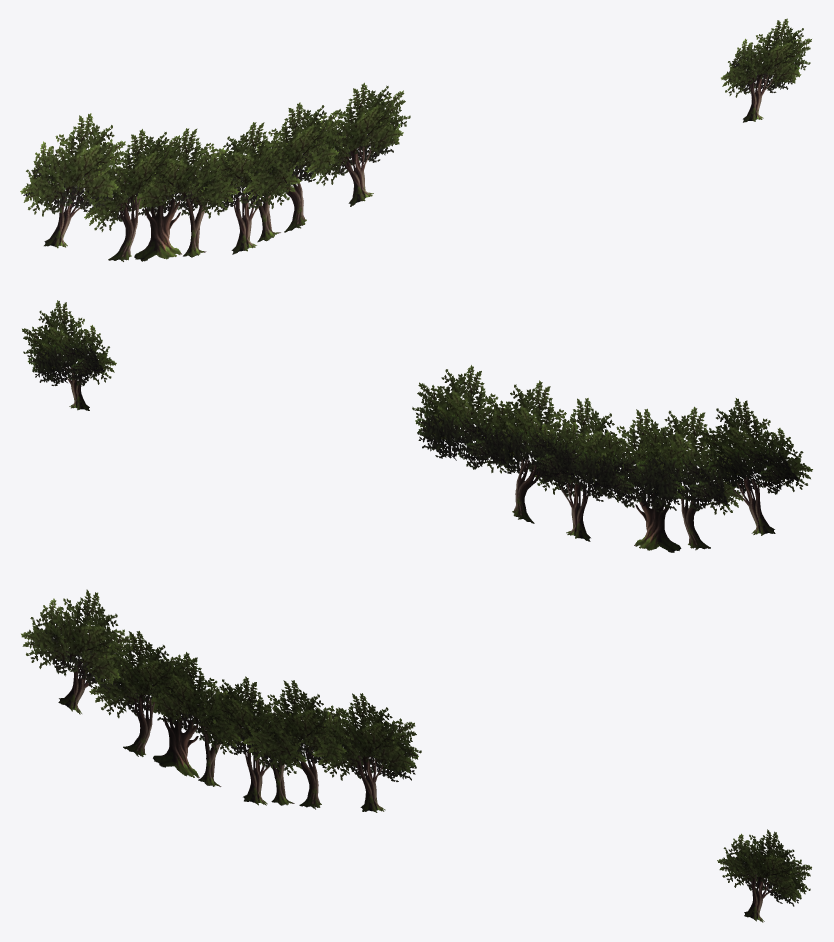
Rendered from Trees.FBX.
3 views of the same model, one above another, from view 1: azimuth 30°, elevation 25°; view 2: azimuth 150°, elevation 25°; view 3: azimuth 330°, elevation 25° (orthographic).
Visible parts, largest first — view 1: LVL 1 Trees_2, LVL 1 Trees_1, LVL 1 Trees_3; view 2: LVL 1 Trees_1, LVL 1 Trees_2, LVL 1 Trees_3; view 3: LVL 1 Trees_2, LVL 1 Trees_1, LVL 1 Trees_3.
Part boxes in pixels (box(x1,y1,x2,y2)): LVL 1 Trees_2: box(183, 82, 410, 257); LVL 1 Trees_1: box(20, 113, 213, 261); LVL 1 Trees_3: box(721, 18, 811, 122); LVL 1 Trees_1: box(594, 398, 812, 552); LVL 1 Trees_2: box(412, 365, 634, 541); LVL 1 Trees_3: box(22, 300, 116, 410); LVL 1 Trees_2: box(197, 676, 421, 812); LVL 1 Trees_1: box(21, 589, 219, 778); LVL 1 Trees_3: box(717, 829, 811, 922).
Bounding box in the file's own units: 7368 × 231 × 1642.
